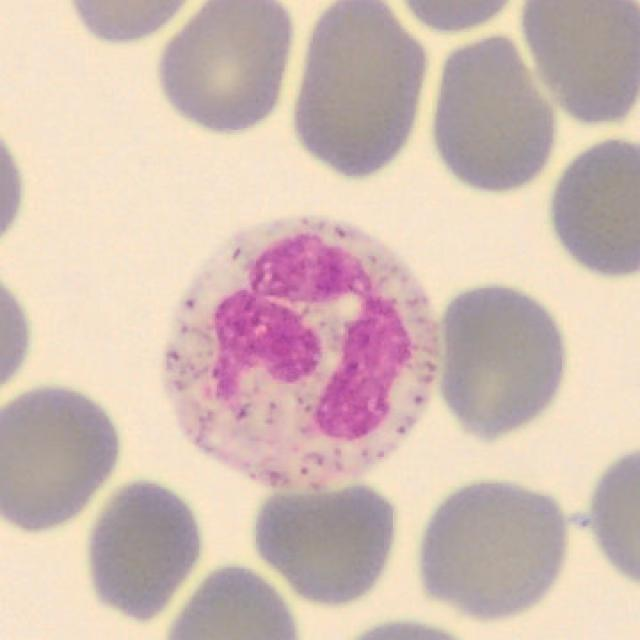Neutrofilo segmentado: (160, 215, 443, 496)
